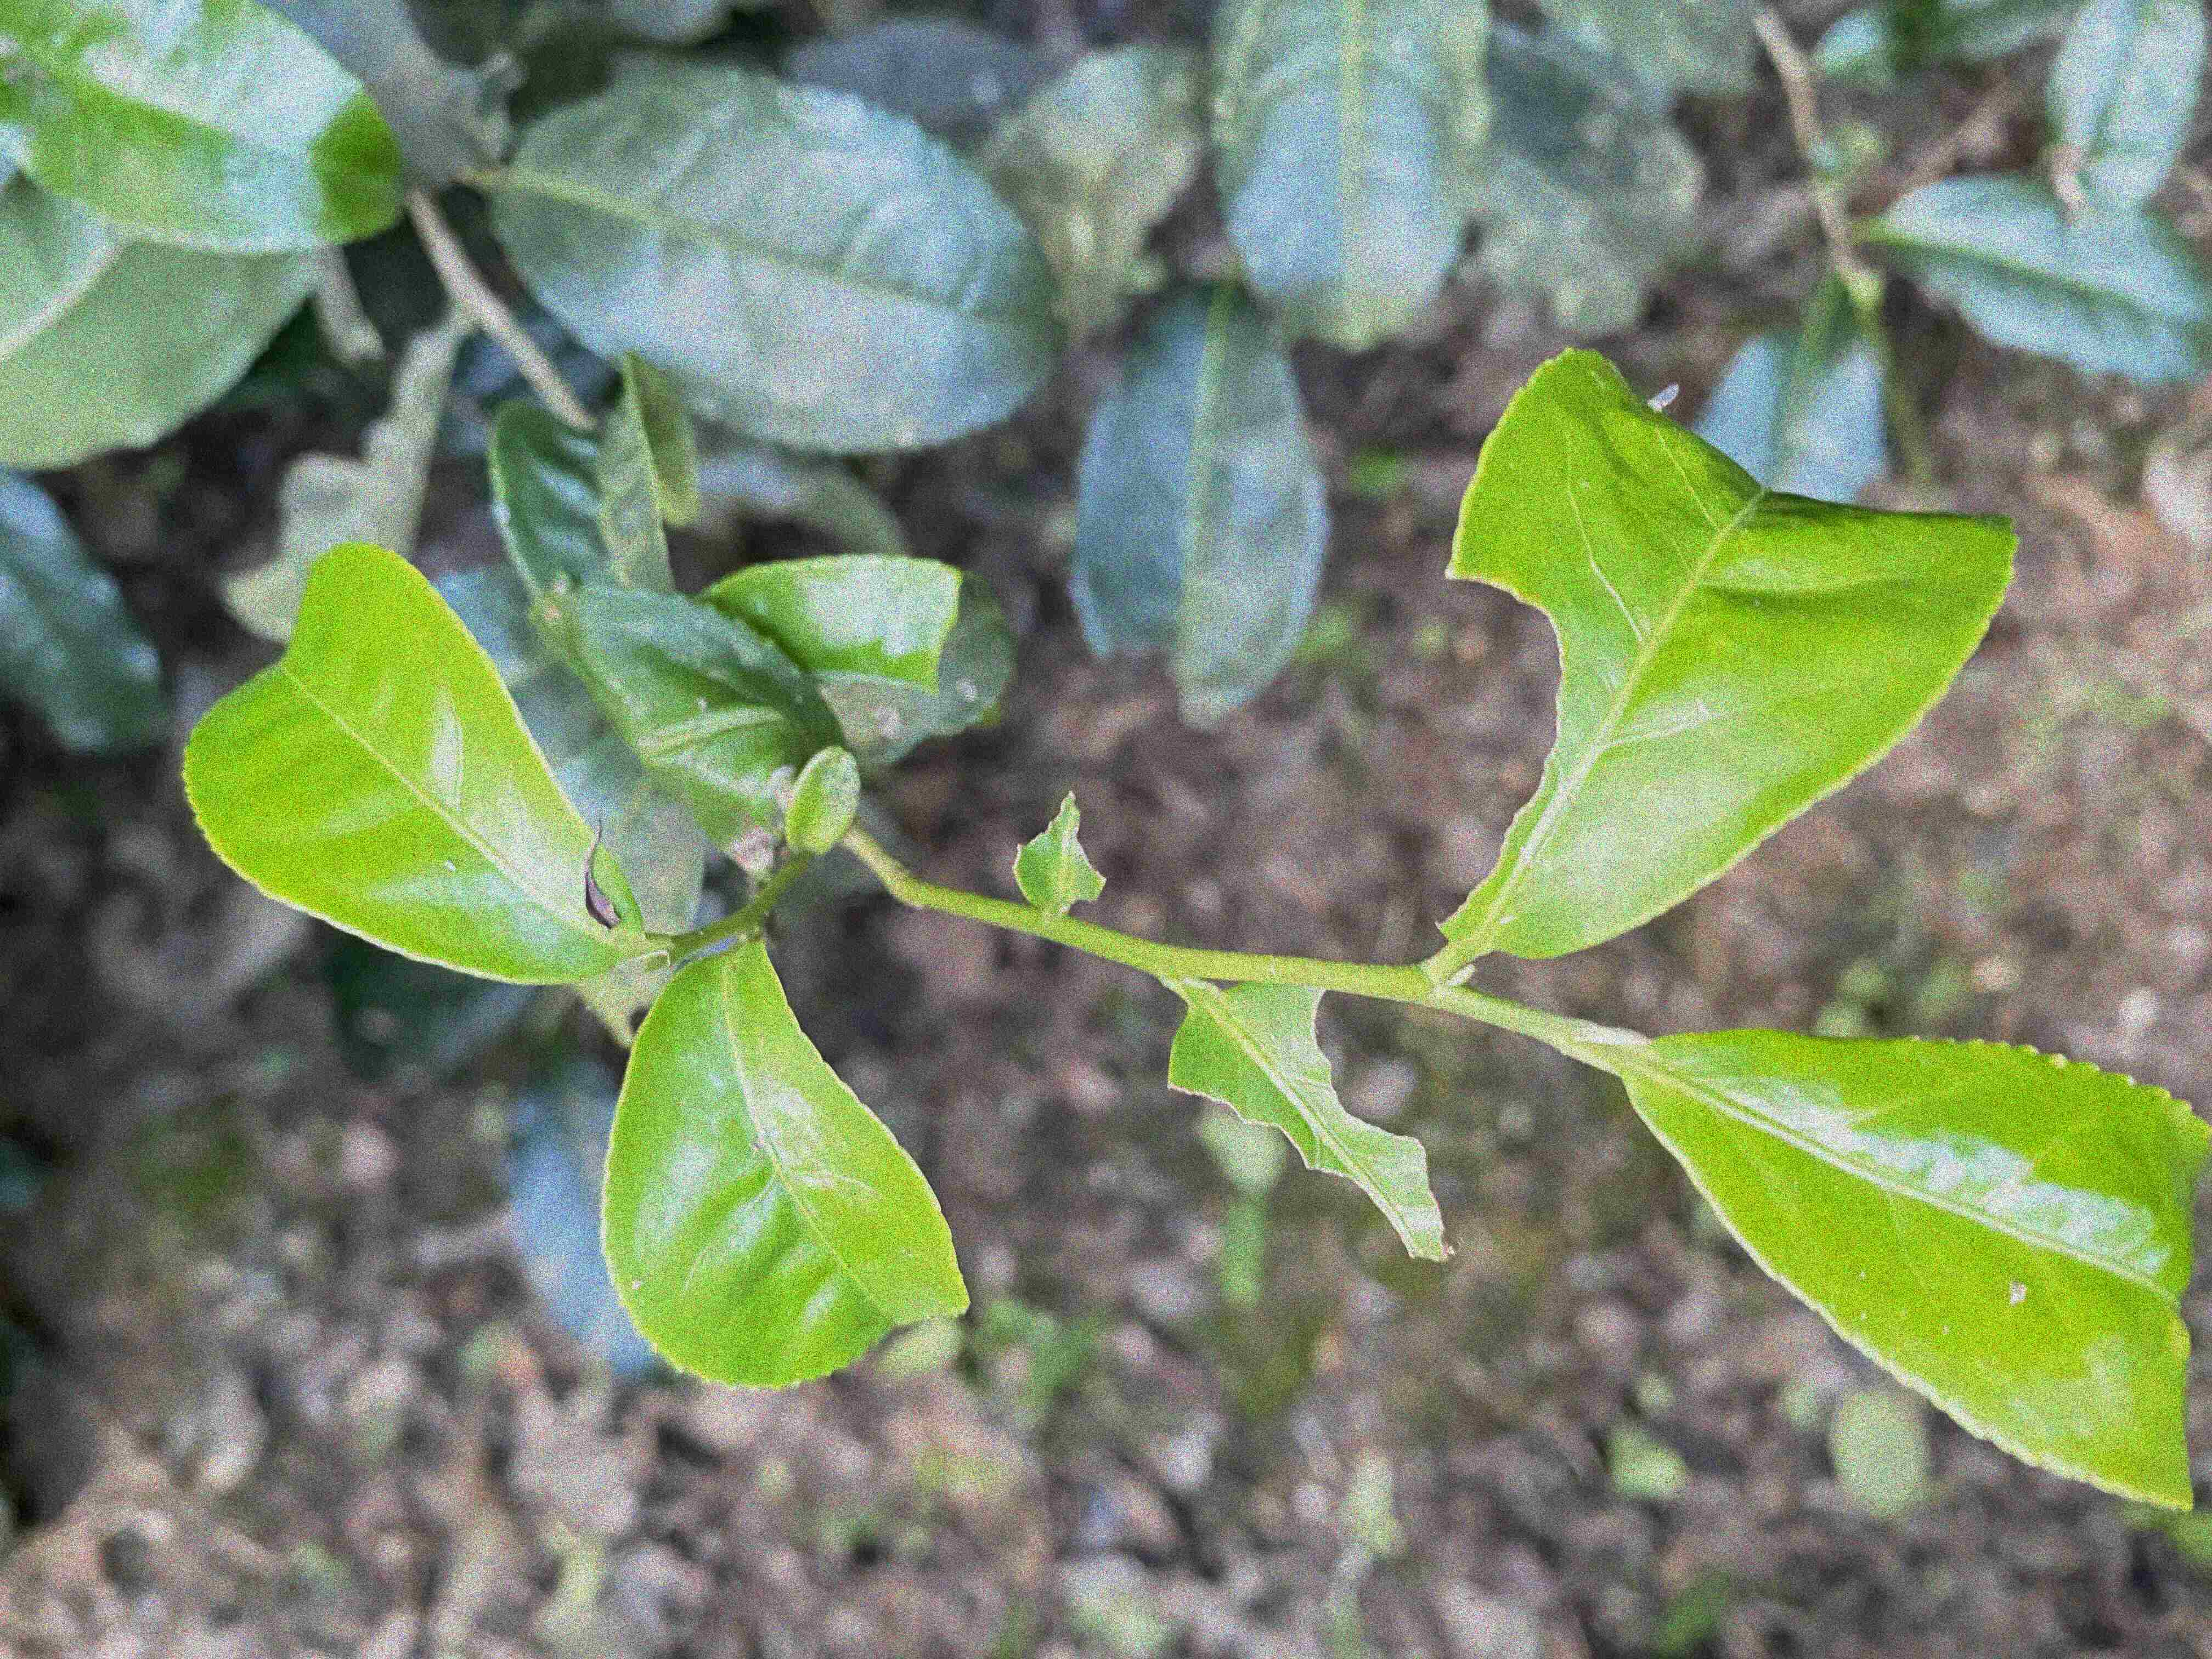chihuo_high: (1435, 342, 2019, 964), (1165, 981, 1454, 1263), (1010, 788, 1108, 918)
chihuo_low: (1062, 275, 1334, 725)
healthy: (179, 538, 636, 990), (592, 932, 972, 1394)
